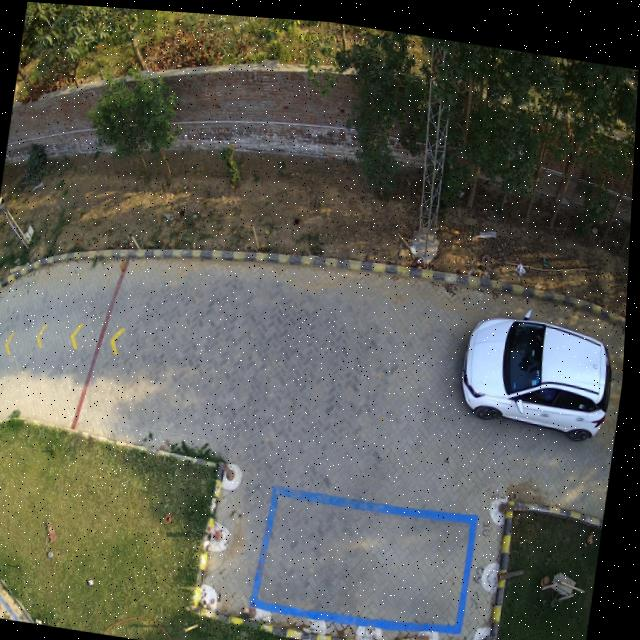car: (465, 303, 615, 432)
